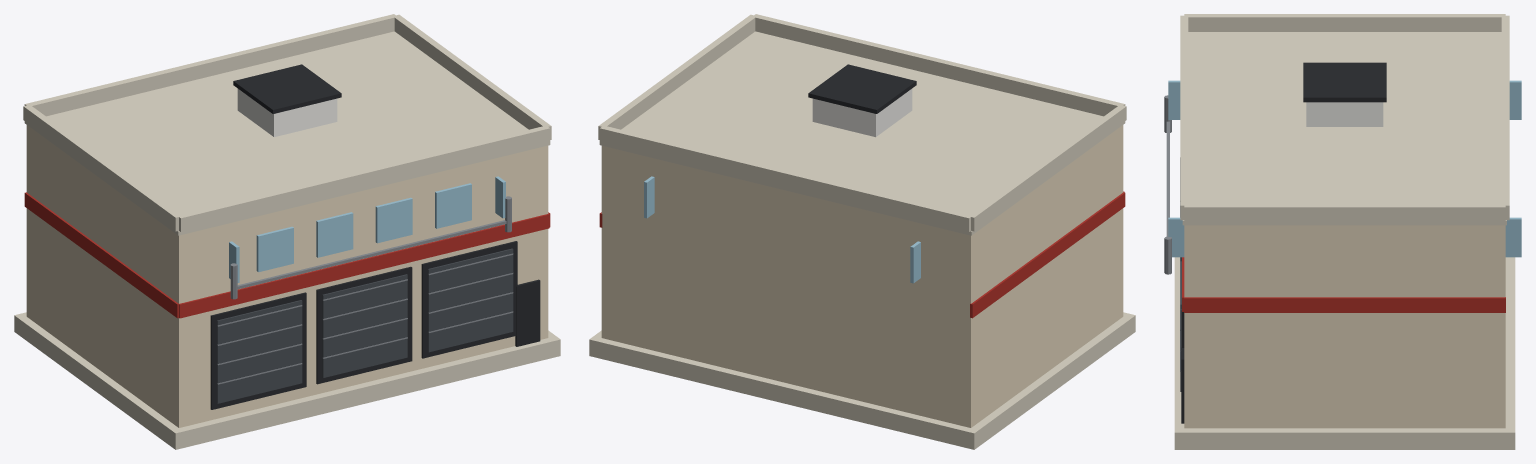
File: building.firehouse.glb
3 renders of one model, left to right at view 1: azimuth 30°, elevation 25°; view 2: azimuth 150°, elevation 25°; view 3: azimuth 270°, elevation 25°, orthographic. The views are drawn at different scales.
Visible parts, largest first — view 1: building.firehouse; view 2: building.firehouse; view 3: building.firehouse.
Part boxes in pixels (bbox=[...]): building.firehouse: bbox=[14, 14, 560, 449]; building.firehouse: bbox=[589, 14, 1135, 449]; building.firehouse: bbox=[1164, 14, 1521, 449].
Size of the model in its own units: 14.6 by 9.3 by 11.12.
